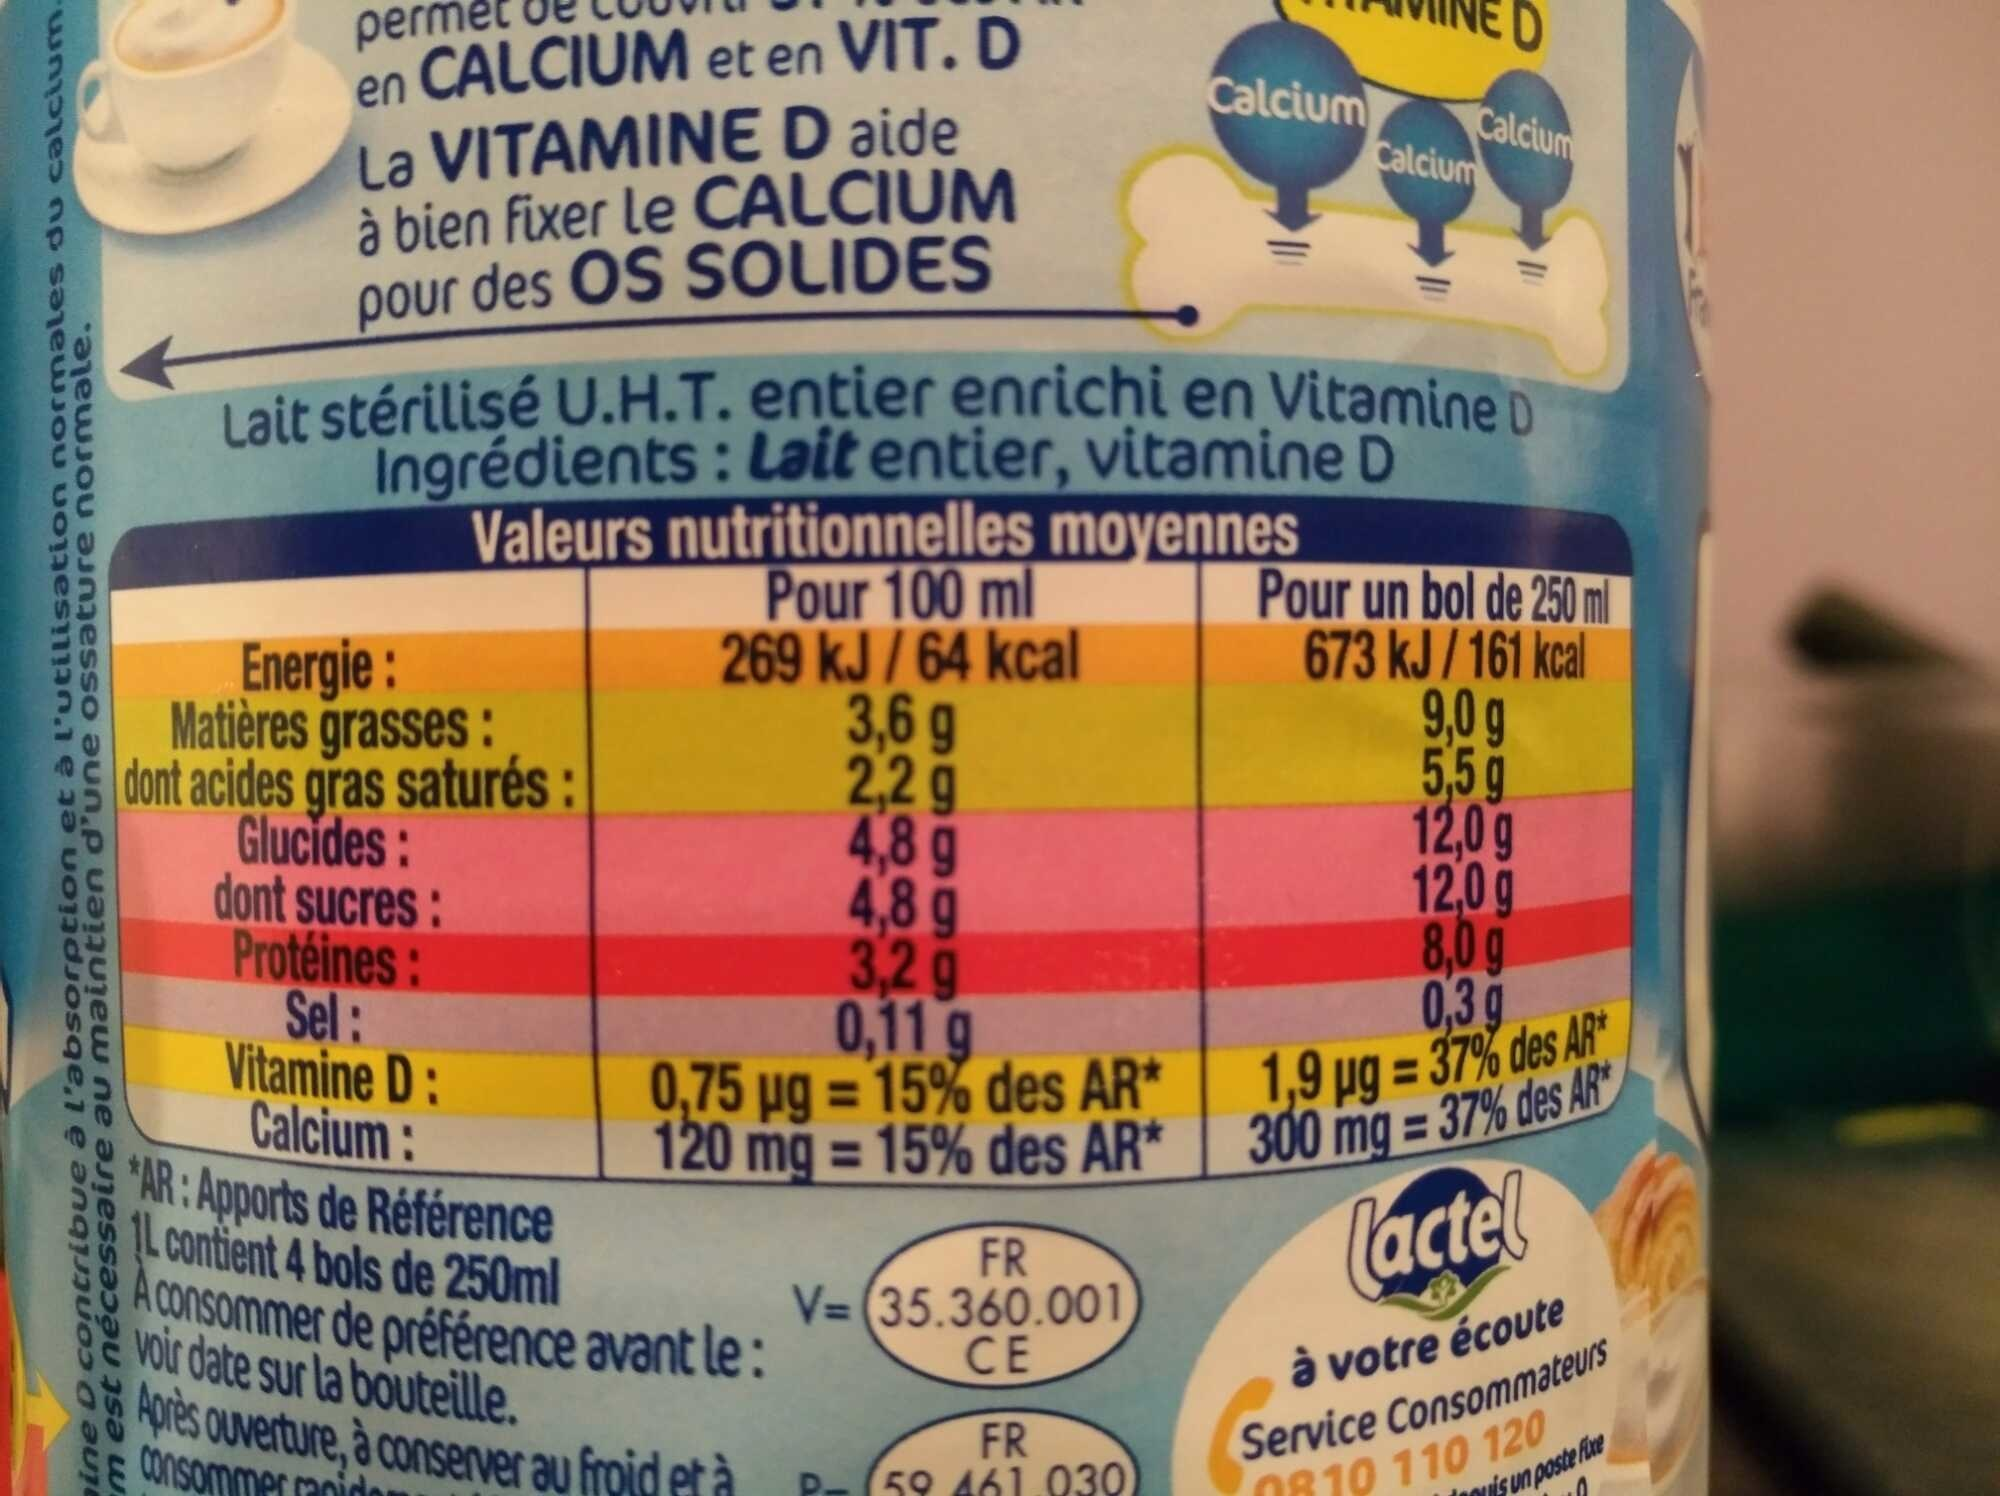column: (644, 569, 1169, 1180), (126, 603, 578, 1164), (1244, 559, 1610, 1160)
table: (110, 493, 1632, 1186)
